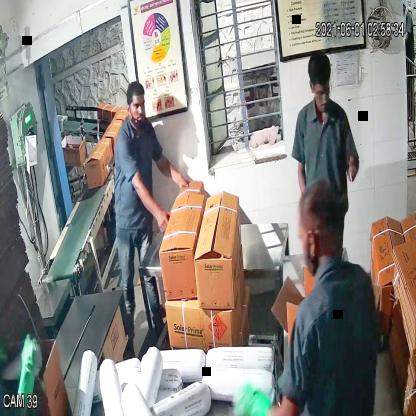no_goggles: (119, 93, 152, 116)
